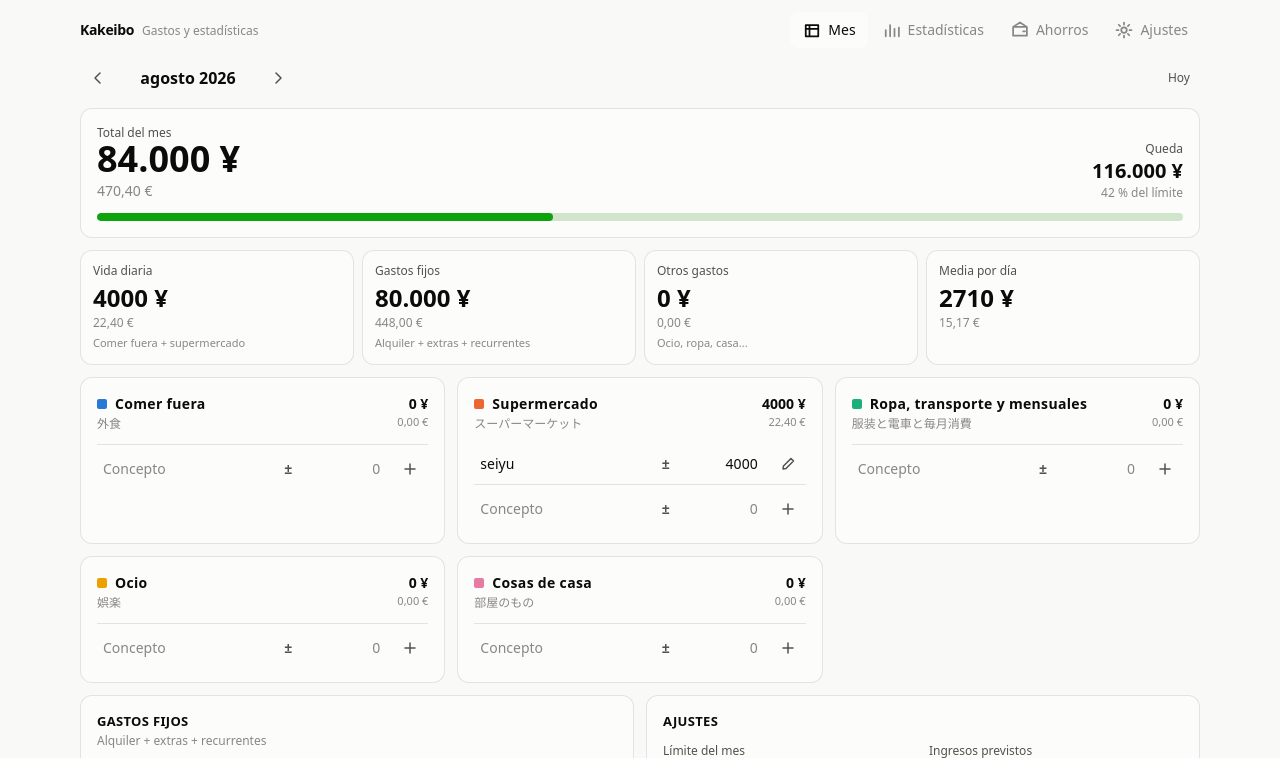
la aplicacion › en japones las categorias por defecto se ven en japones, no en espanol
Step 1. Click the button "Ajustes" → [1151, 30], box [1102,12,1200,48]
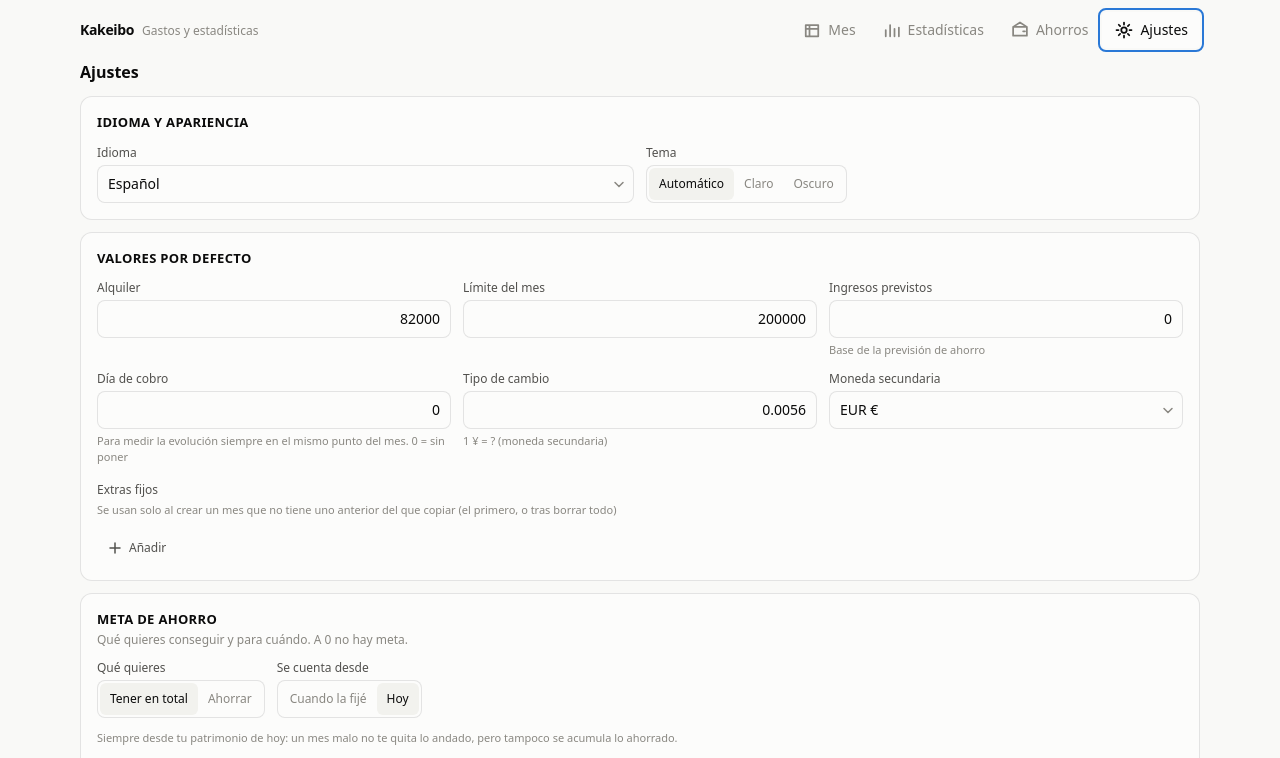
Step 2. Select "日本語" in the dropdown labelled "Idioma" → [366, 184], box [97,164,634,202]
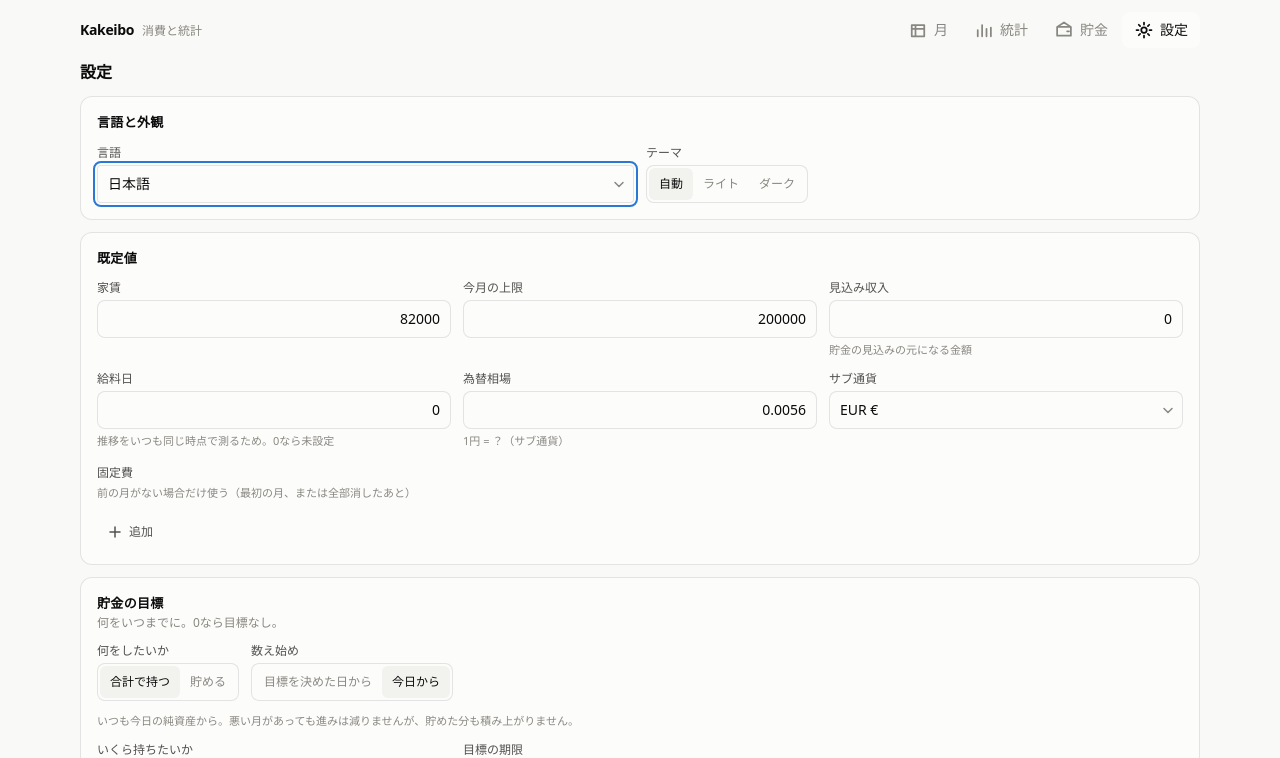
Step 3. Click the button "月" → [928, 30], box [896,12,960,48]
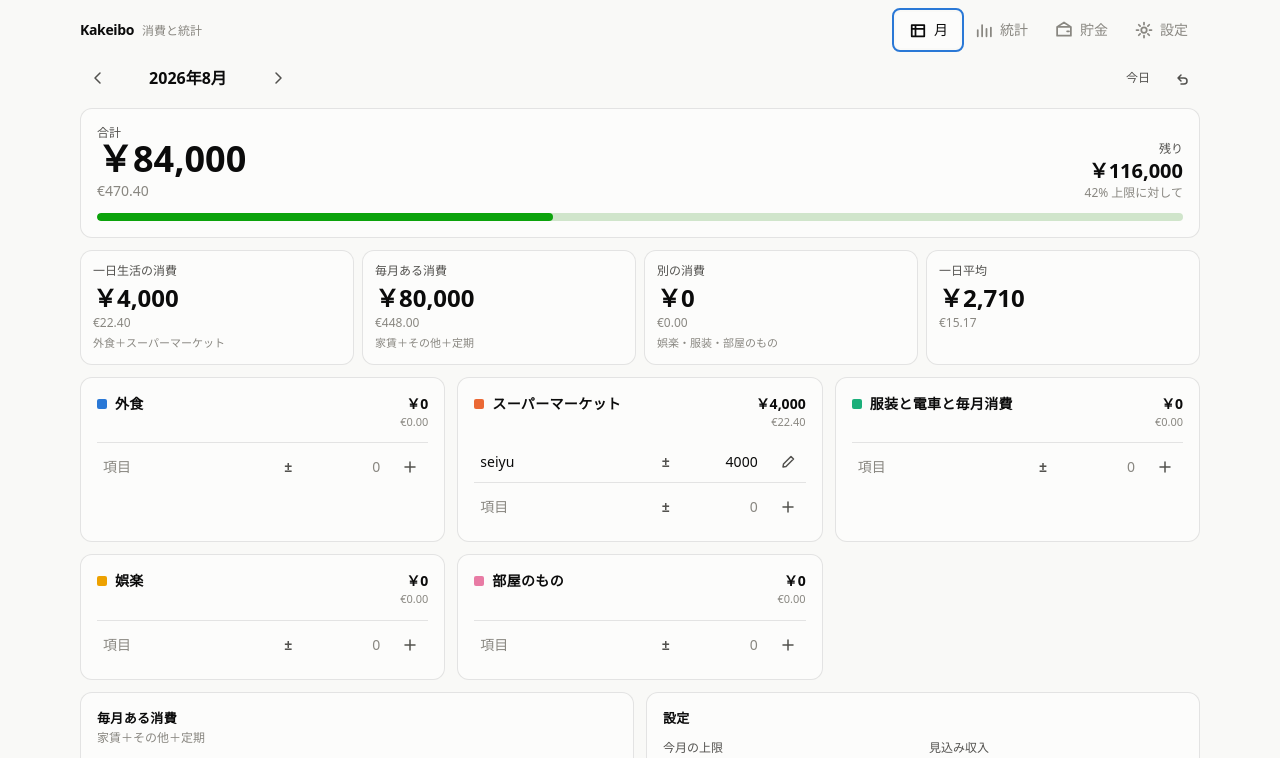
Expected: the text "Comer fuera" is not shown
Expected: the text "外食" is shown, [115,394,144,414]
